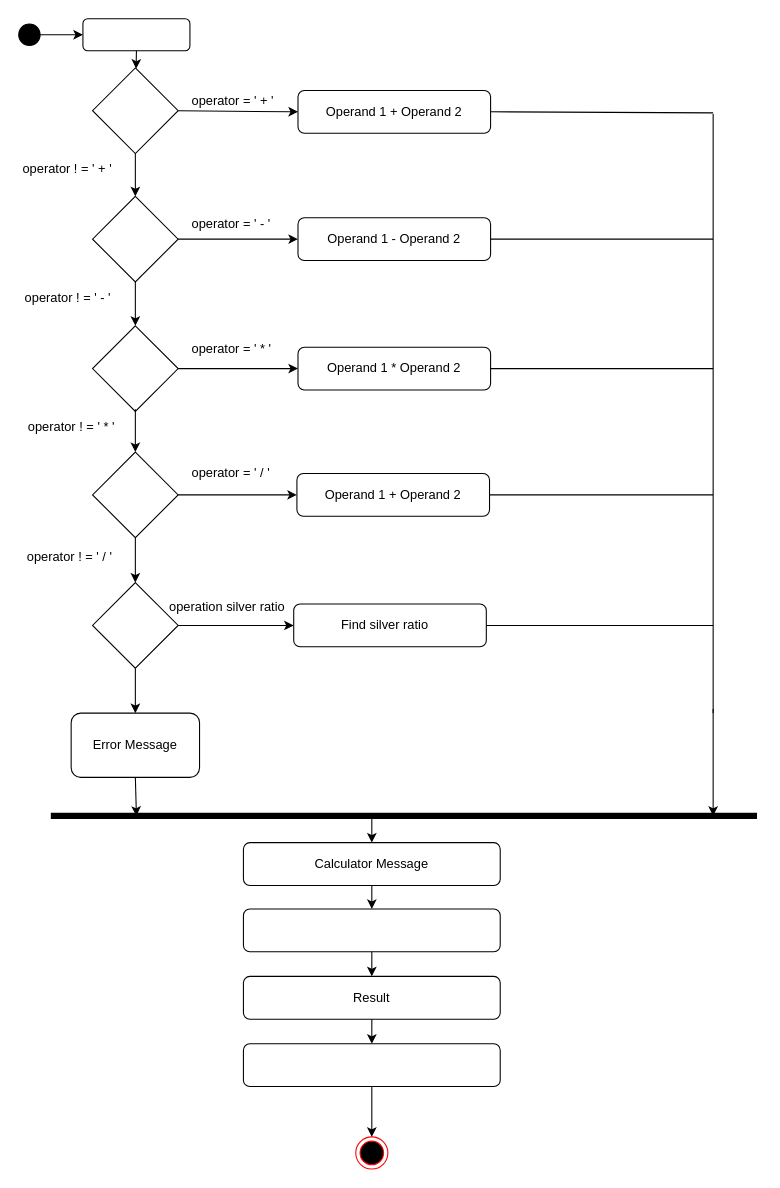
Image size: 780x1188. Some labels were removed from this diagram. The box of each missing label's shape, as (x1, y1, x2, y2) in pixels:
ALU: (242, 908, 500, 952)
Display: (242, 1043, 500, 1087)
Keyboard: (82, 18, 190, 51)
Silver Ratio: (91, 582, 178, 668)
